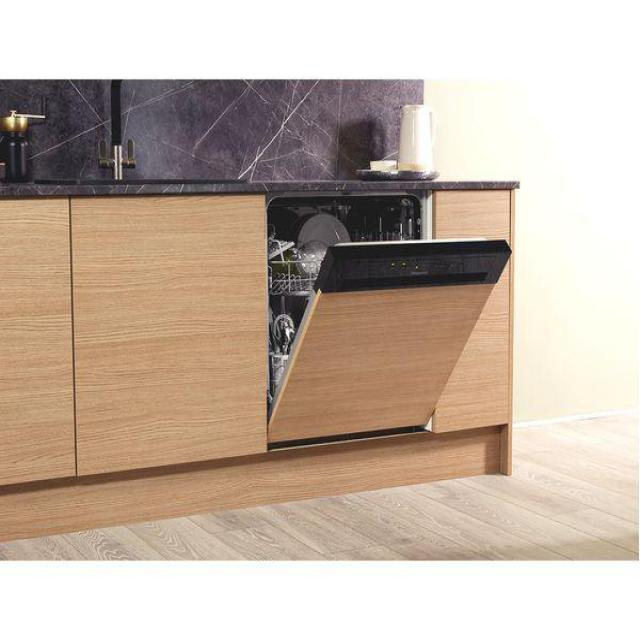dishwasher: (267, 188, 515, 446)
